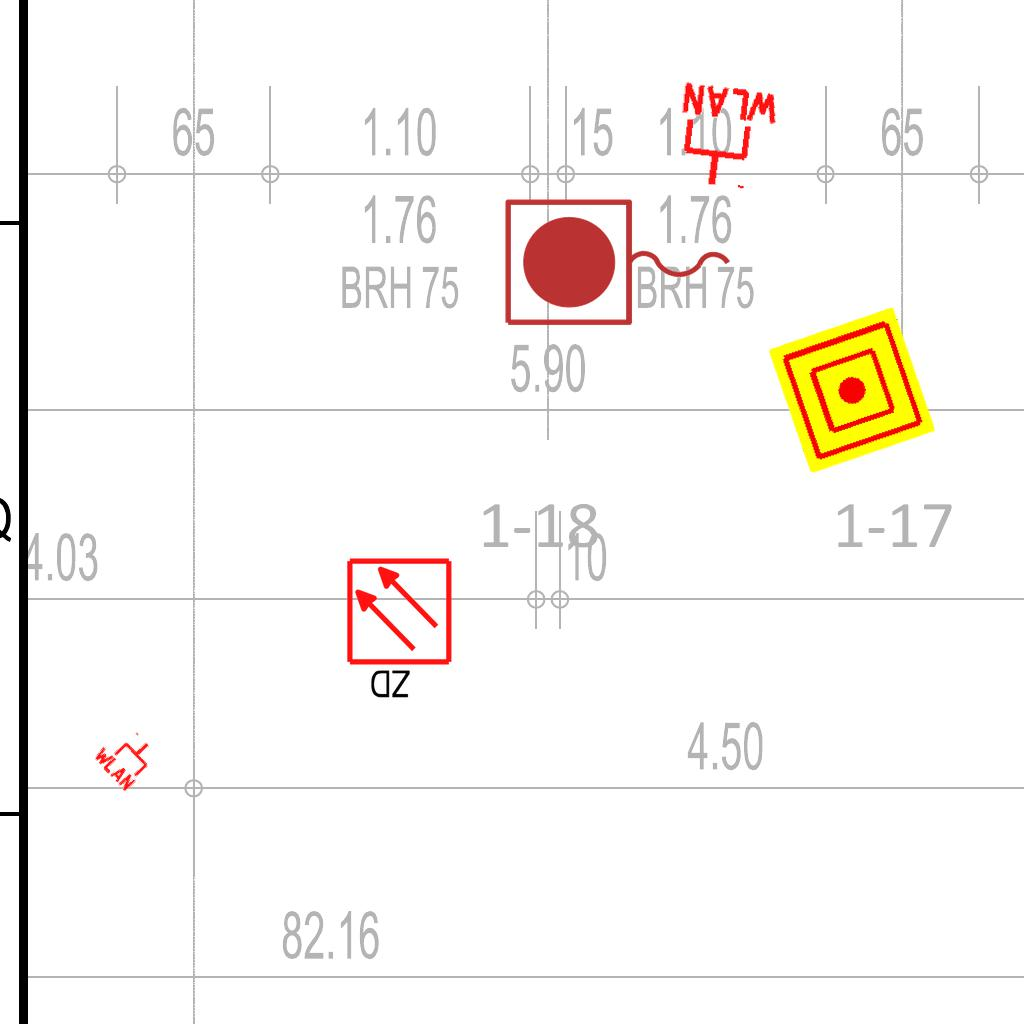NAM-Nichtautomatischer_Melder: (768, 306, 936, 474)
WLAN: (668, 79, 785, 197), (90, 720, 164, 794)
ZD_Melder_in_Zwischendecke_mit_Revisionsoeffnung_mind_40_x_40_cm: (344, 556, 458, 705)
Zugtaster: (497, 192, 741, 336)
